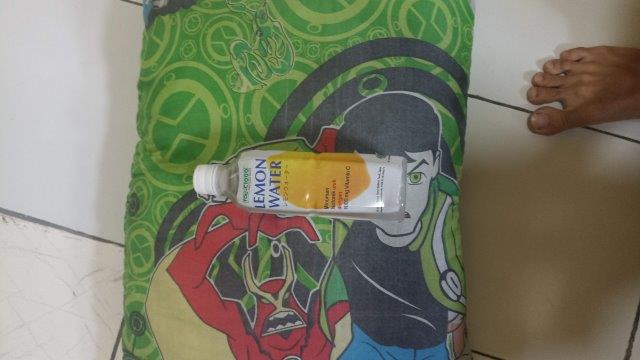botolplastik: (188, 148, 410, 225)
